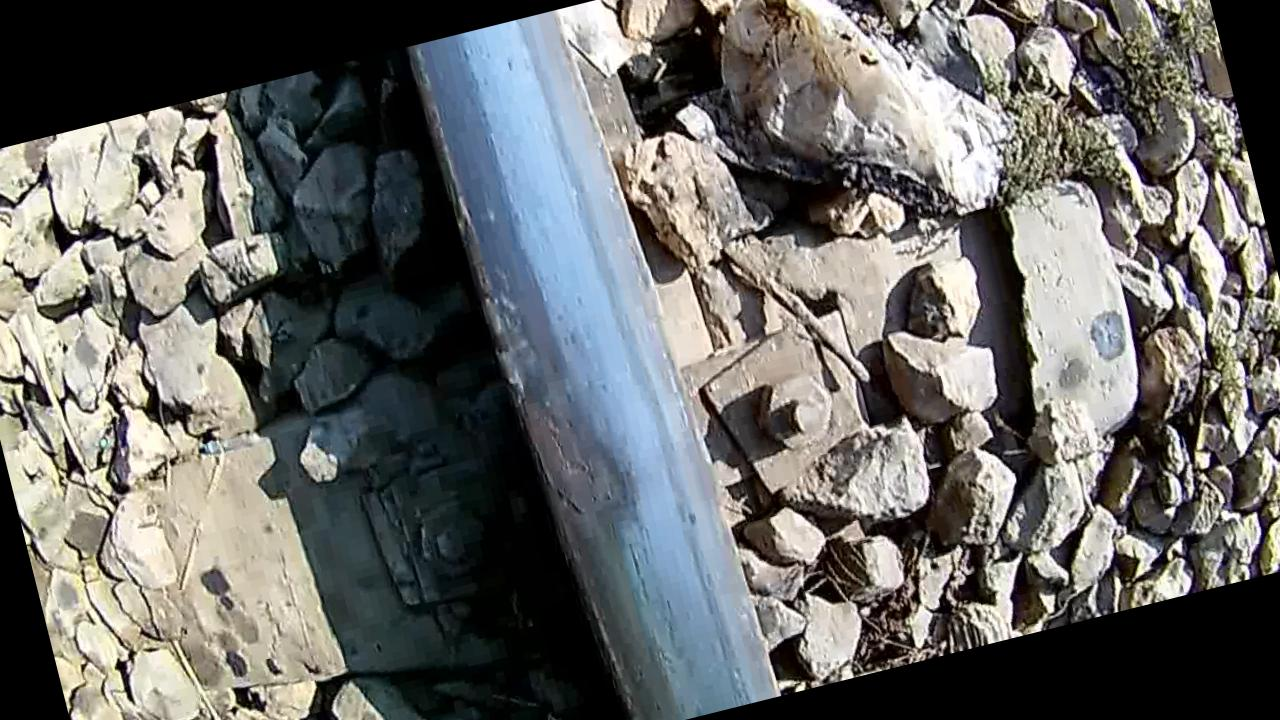bolt_missing: (518, 379, 714, 603)
